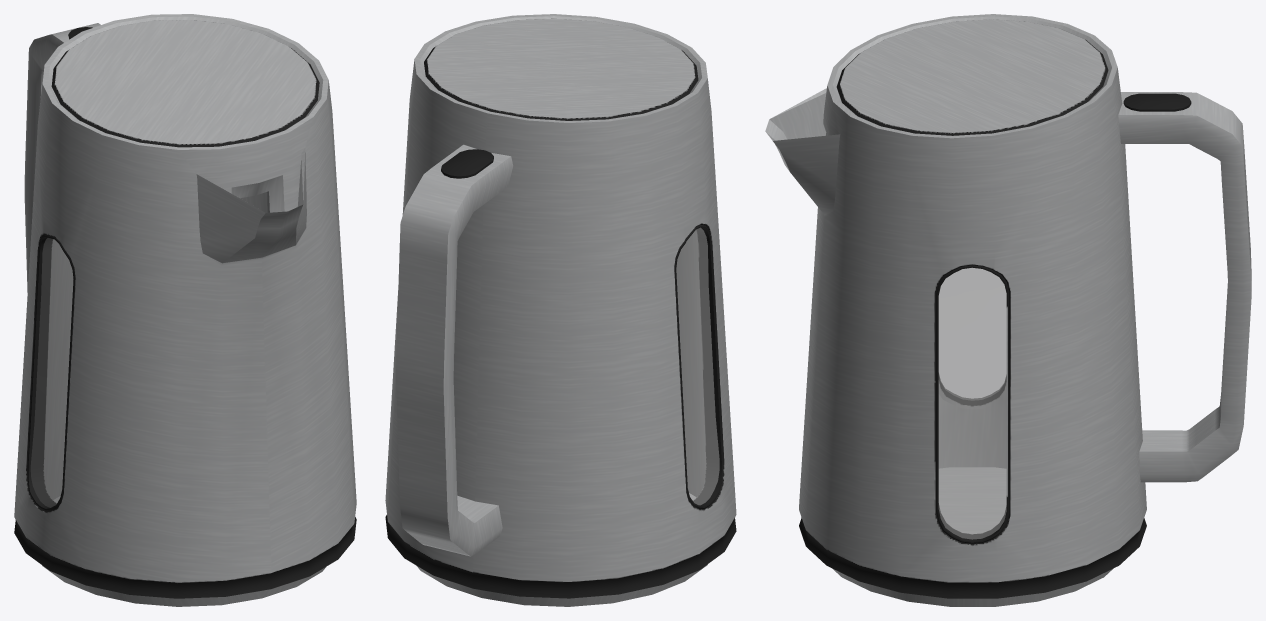
The model's file is electric_kettle.glb.
3 renders of one model, left to right at view 1: azimuth 30°, elevation 25°; view 2: azimuth 150°, elevation 25°; view 3: azimuth 270°, elevation 25°, orthographic. The views are drawn at different scales.
Parts seen in each view (by area): view 1: base, steklo, ruchka; view 2: base, ruchka, steklo, Circle; view 3: base, steklo, ruchka, Circle.
Boxes of the visible parts, x1=… form: base: x1=14, y1=14, x2=356, y2=606; steklo: x1=30, y1=238, x2=73, y2=507; ruchka: x1=24, y1=23, x2=100, y2=292; base: x1=385, y1=14, x2=736, y2=606; ruchka: x1=396, y1=144, x2=513, y2=556; steklo: x1=676, y1=227, x2=719, y2=505; Circle: x1=441, y1=149, x2=493, y2=178; base: x1=765, y1=14, x2=1146, y2=606; steklo: x1=938, y1=267, x2=1006, y2=539; ruchka: x1=1118, y1=92, x2=1251, y2=482; Circle: x1=1123, y1=93, x2=1191, y2=111.
Bounding box in the file's own units: 0.3071 × 0.4665 × 0.4333.
3 materials, 3 textured.
